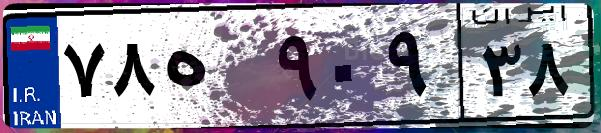0: (330, 28, 385, 110)
3: (475, 38, 525, 113)
7: (57, 26, 110, 100)
8: (525, 38, 570, 115), (110, 28, 158, 98)
9: (270, 28, 330, 110), (385, 28, 445, 110)
ه: (158, 20, 270, 120)
